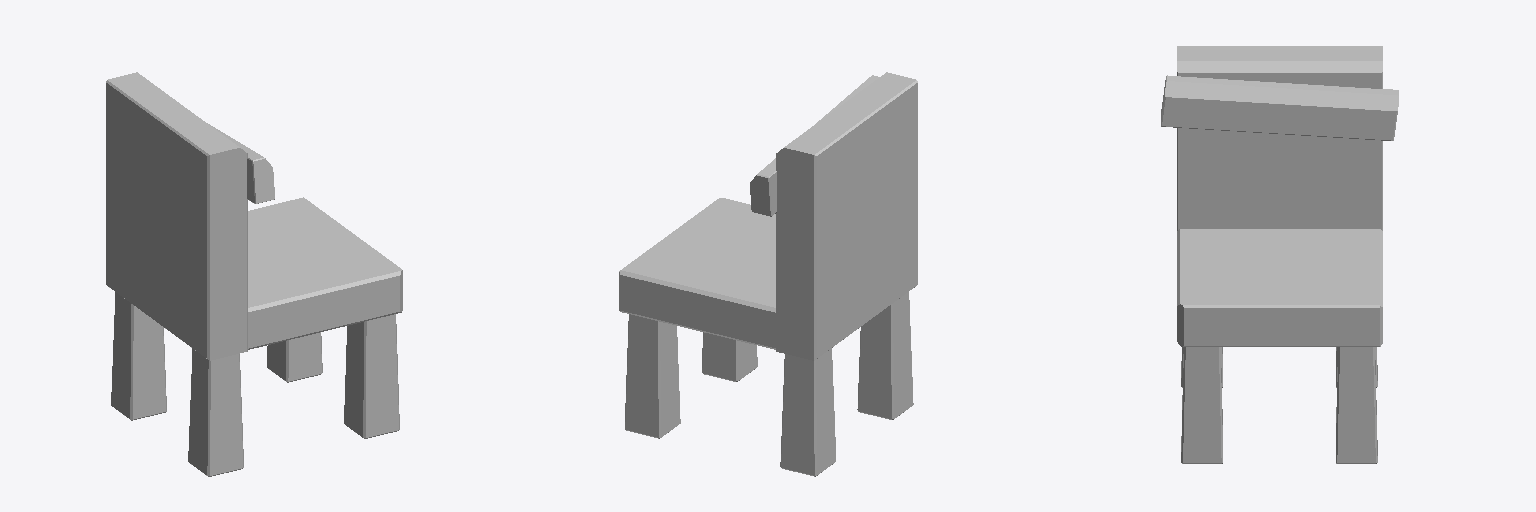
File: chair1.obj
The picture shows the model from 3 angles: view 1: azimuth 30°, elevation 25°; view 2: azimuth 150°, elevation 25°; view 3: azimuth 270°, elevation 25°; orthographic projection.
Parts seen in each view (by area): view 1: chair_1 chairs; view 2: chair_1 chairs; view 3: chair_1 chairs.
Part boxes in pixels (bbox=[...]): chair_1 chairs: bbox=[106, 72, 402, 476]; chair_1 chairs: bbox=[619, 72, 917, 476]; chair_1 chairs: bbox=[1161, 46, 1398, 463].
Bounding box in the file's own units: 1.16 × 1.82 × 1.21.